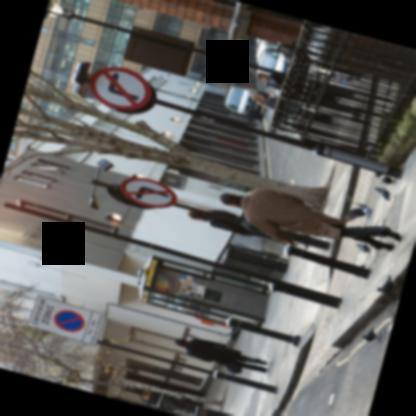handbag: (185, 350, 243, 374)
